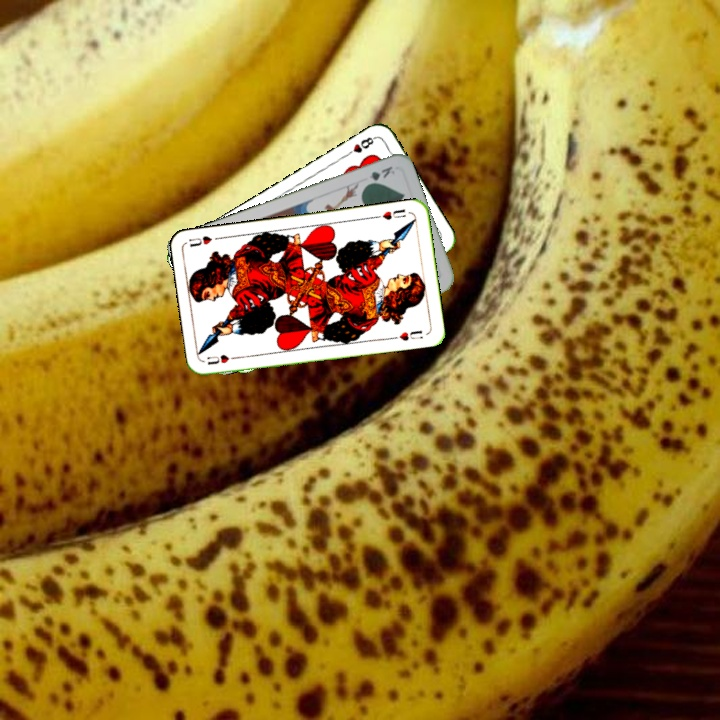GK: (361, 162, 398, 189)
H8: (341, 132, 378, 159)
HU: (203, 350, 242, 367), (378, 205, 408, 222)
